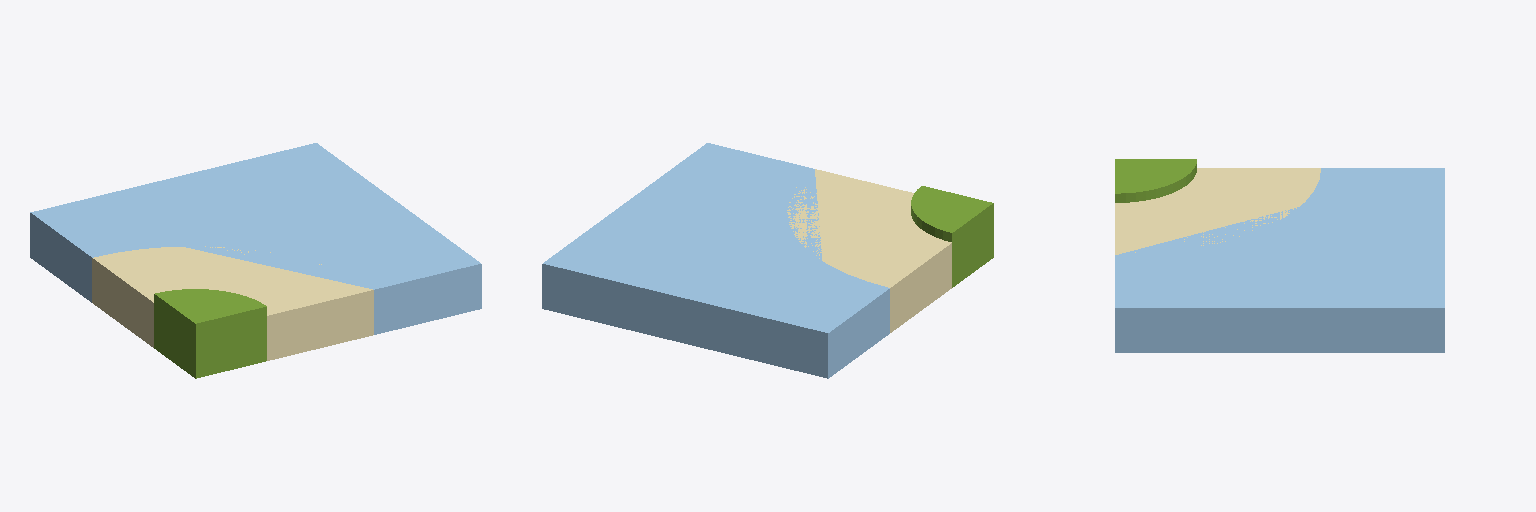
File: roadTile_042.obj
3 renders of one model, left to right at view 1: azimuth 30°, elevation 25°; view 2: azimuth 150°, elevation 25°; view 3: azimuth 270°, elevation 25°, orthographic.
Visible parts, largest first — view 1: Mesh1 Group1 Model; view 2: Mesh1 Group1 Model; view 3: Mesh1 Group1 Model.
Boxes of the visible parts, <box> form: Mesh1 Group1 Model: <box>30,143,481,378</box>; Mesh1 Group1 Model: <box>542,143,993,378</box>; Mesh1 Group1 Model: <box>1115,159,1444,352</box>.
Bounding box in the file's own units: 3 × 0.55 × 3.